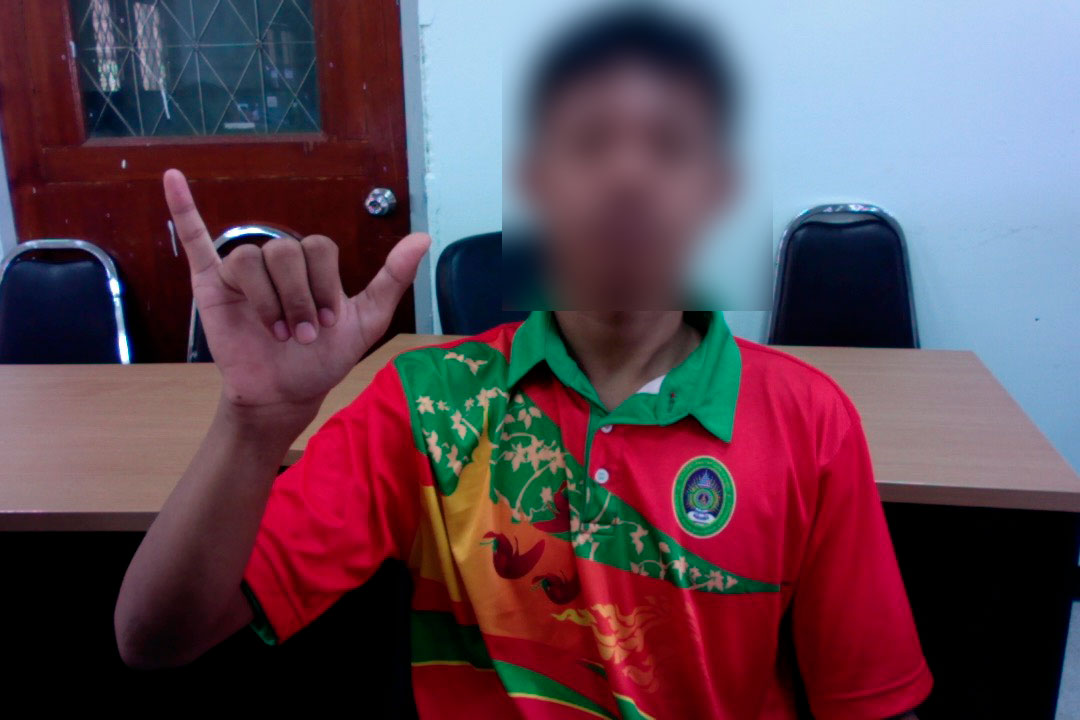yor: (153, 158, 438, 446)
